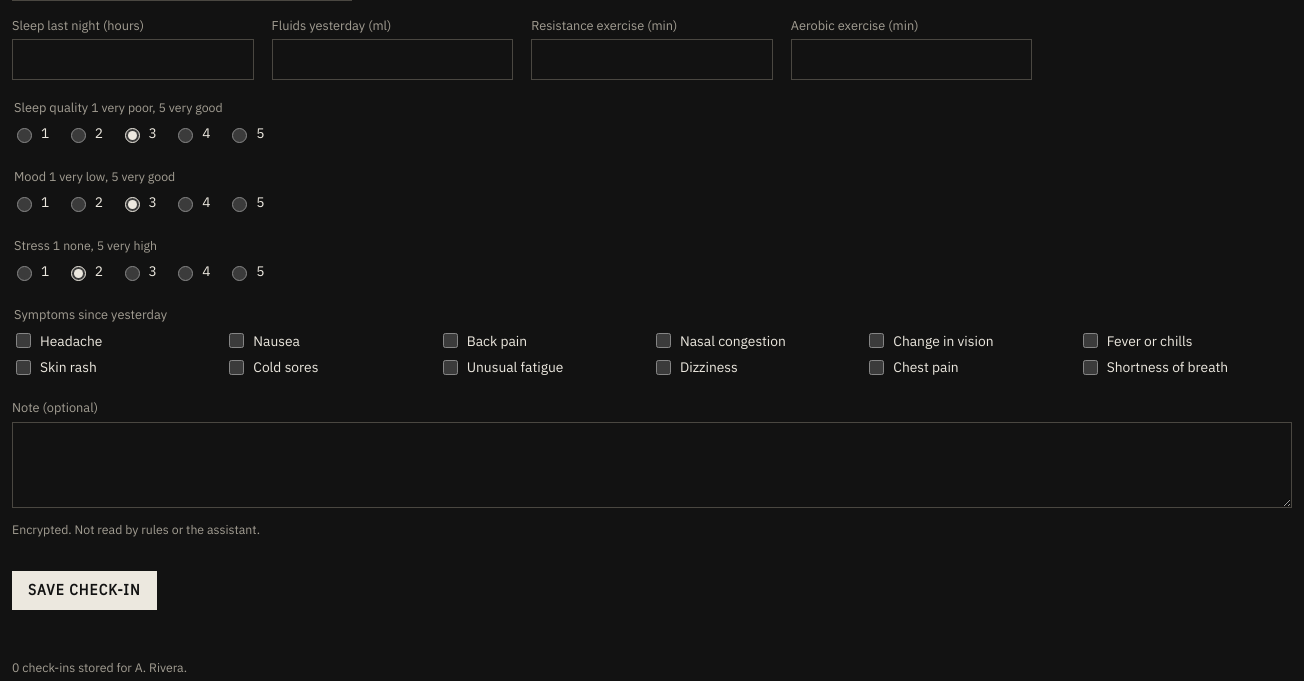
Test: daily check-in › refuses to save blank numbers instead of treating them as zero
(page scrolled)
Click the button "Save check-in" at (84, 591), box [12,571,157,610]
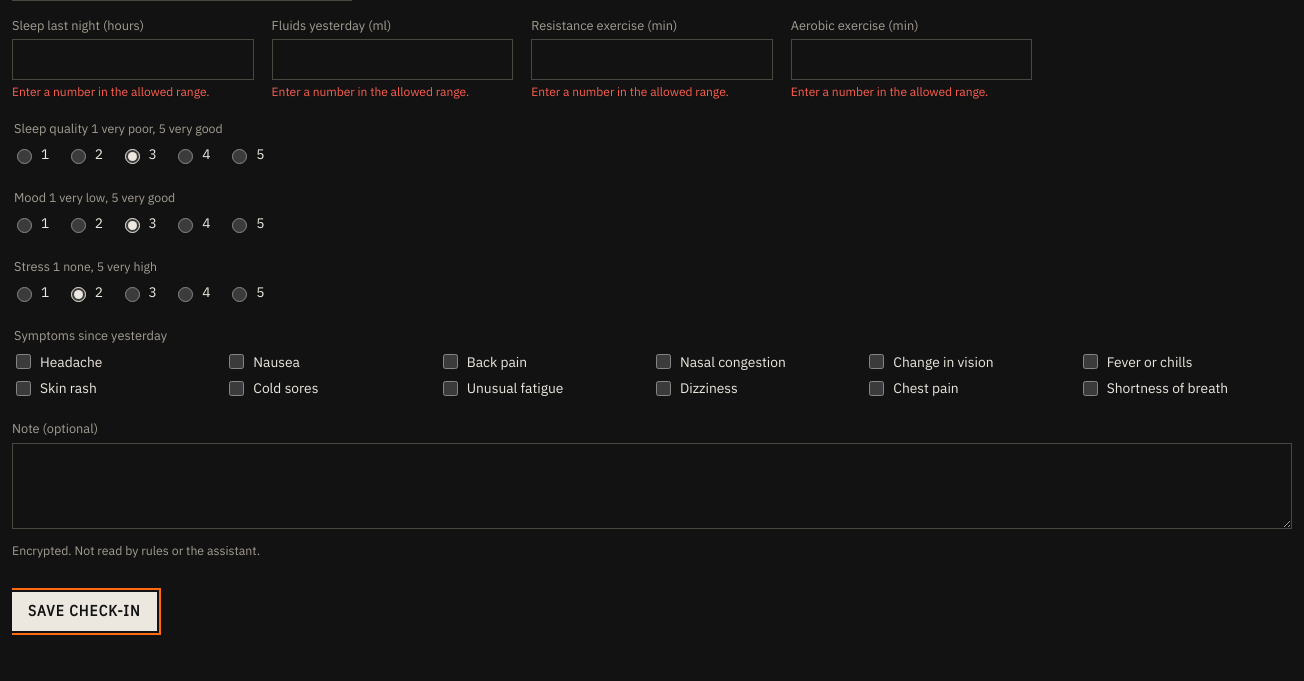
Expected: the text "Enter a number in the allowed range." is shown 4 times, [12,84,210,99]; [272,84,469,99]; [531,84,729,99]; [791,84,988,99]
